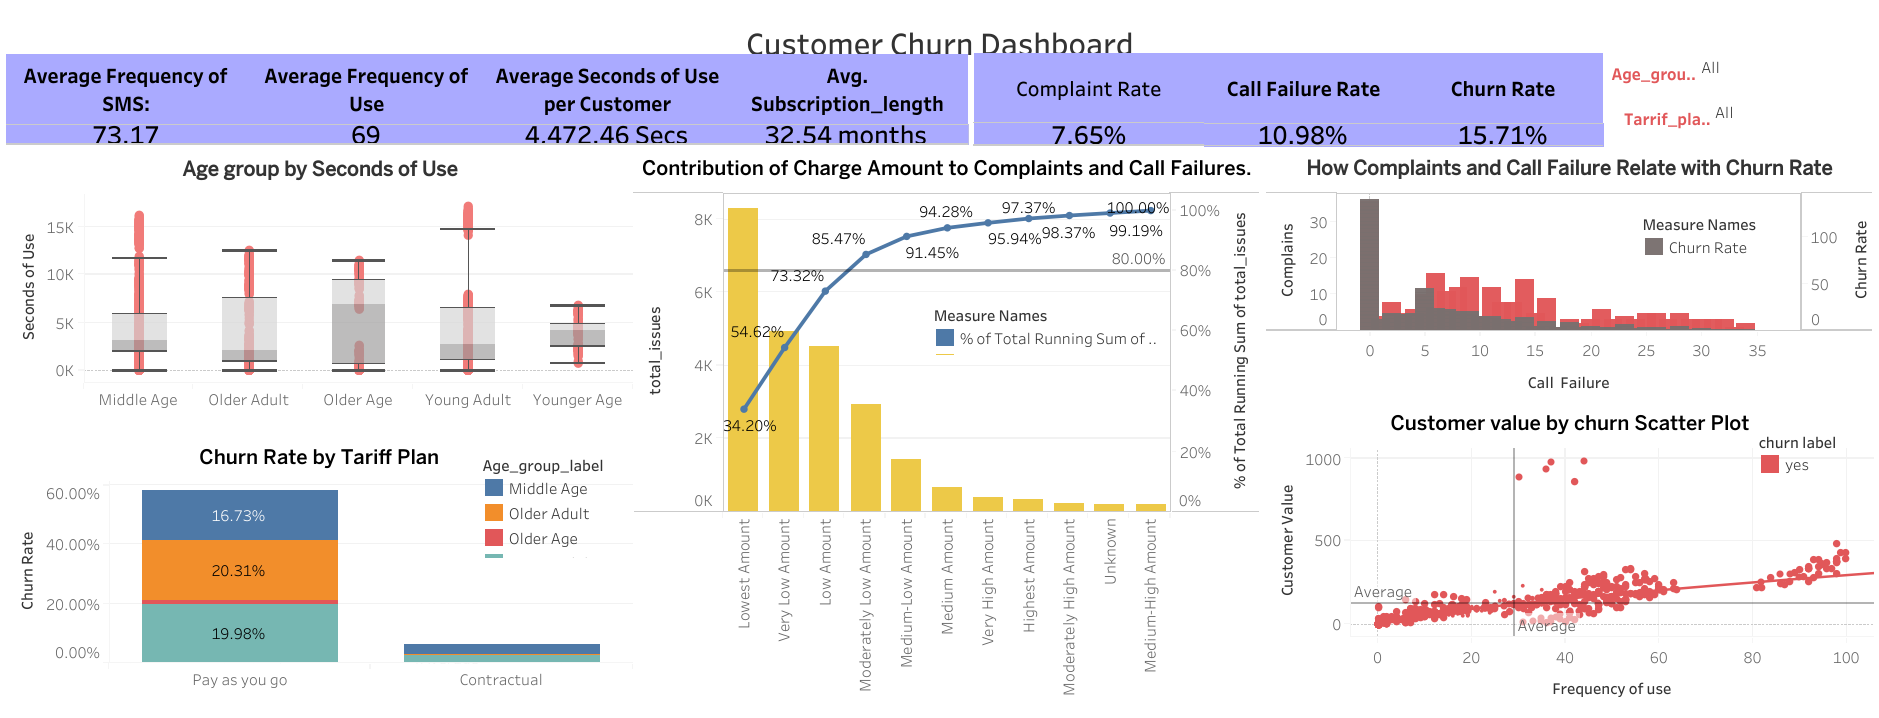

What the dashboard file says about the page in this screenshot:
{"tool":"tableau","page":{"name":"Dashboard 1","canvas":[1000,1000],"units":"permille","ordinal":0},"visuals":[{"type":"title","box":[4.8,9.3,990.3,59.2]},{"type":"worksheet","title":"Sheet 5 (3)","mark":"Automatic","rows":["Calculation_1555712198778982411"],"box":[517.8,73.2,335.6,130.1]},{"type":"worksheet","title":"Sheet 5 (2)","mark":"Automatic","box":[3,75.5,512.4,126.6]},{"type":"filter","title":"Sheet 2","param":"[federated.09p12um1xqyou818iqphj150n7il].[none:Calculation_1555712198738903042:n","box":[855.8,76.7,137.6,51.1]},{"type":"filter","title":"Sheet 2","param":"[federated.09p12um1xqyou818iqphj150n7il].[none:Calculation_1555712198738243585:n","box":[863,139.4,126.7,49.9]},{"type":"worksheet","title":"Pareto","mark":"Bar","rows":["Calculation_1555712199065640980","Calculation_1555712199065640980"],"cols":["Calculation_1555712198768906247"],"box":[337.4,204.4,332.5,786.3]},{"type":"worksheet","title":"Sheet 7","mark":"Bar","rows":["Complains","Calculation_1555712198772727816"],"cols":["Call  Failure"],"box":[673.5,204.4,322.3,355.4]},{"type":"worksheet","title":"Sheet 4","mark":"Circle","rows":["Seconds of Use"],"cols":["Calculation_1555712198738903042"],"box":[4.2,206.7,332.5,394.9]},{"type":"legend","title":"Sheet 7","param":"[federated.09p12um1xqyou818iqphj150n7il].[:Measure Names]","box":[873.3,291.5,74.2,74.3]},{"type":"legend","title":"Pareto","param":"[federated.09p12um1xqyou818iqphj150n7il].[:Measure Names]","box":[495.8,419.3,122.9,74.3]},{"type":"worksheet","title":"Sheet 3","mark":"Circle","rows":["Customer Value"],"cols":["Frequency of use"],"box":[673.5,559.8,323.5,425.1]},{"type":"legend","title":"Sheet 3","param":"[federated.09p12um1xqyou818iqphj150n7il].[none:Calculation_1555712199460417574:n","box":[934.8,594.7,59.1,74.3]},{"type":"worksheet","title":"Sheet 2","mark":"Automatic","rows":["Calculation_1555712198772727816"],"cols":["Calculation_1555712198738243585"],"box":[3.6,606.3,333.1,384.4]},{"type":"legend","title":"Sheet 2","param":"[federated.09p12um1xqyou818iqphj150n7il].[none:Calculation_1555712198738903042:n","box":[255.9,628.3,65.8,147.5]}]}

Visuals, with their boxes on the dashboard's canvas, which has no fixed pixel size, in thousandths of its width and height (x1, y1, x2, y2). These are canvas units, not pixel positions in the 1879x718 screenshot, which may show the page scaled, cropped or inside an application window:
title: detection(5, 9, 995, 68)
"Sheet 5 (3)" worksheet: detection(518, 73, 853, 203)
"Sheet 5 (2)" worksheet: detection(3, 76, 515, 202)
"Sheet 2" filter: detection(856, 77, 993, 128)
"Sheet 2" filter: detection(863, 139, 990, 189)
"Pareto" worksheet (Bar marks): detection(337, 204, 670, 991)
"Sheet 7" worksheet (Bar marks): detection(674, 204, 996, 560)
"Sheet 4" worksheet (Circle marks): detection(4, 207, 337, 602)
"Sheet 7" legend: detection(873, 292, 948, 366)
"Pareto" legend: detection(496, 419, 619, 494)
"Sheet 3" worksheet (Circle marks): detection(674, 560, 997, 985)
"Sheet 3" legend: detection(935, 595, 994, 669)
"Sheet 2" worksheet: detection(4, 606, 337, 991)
"Sheet 2" legend: detection(256, 628, 322, 776)
